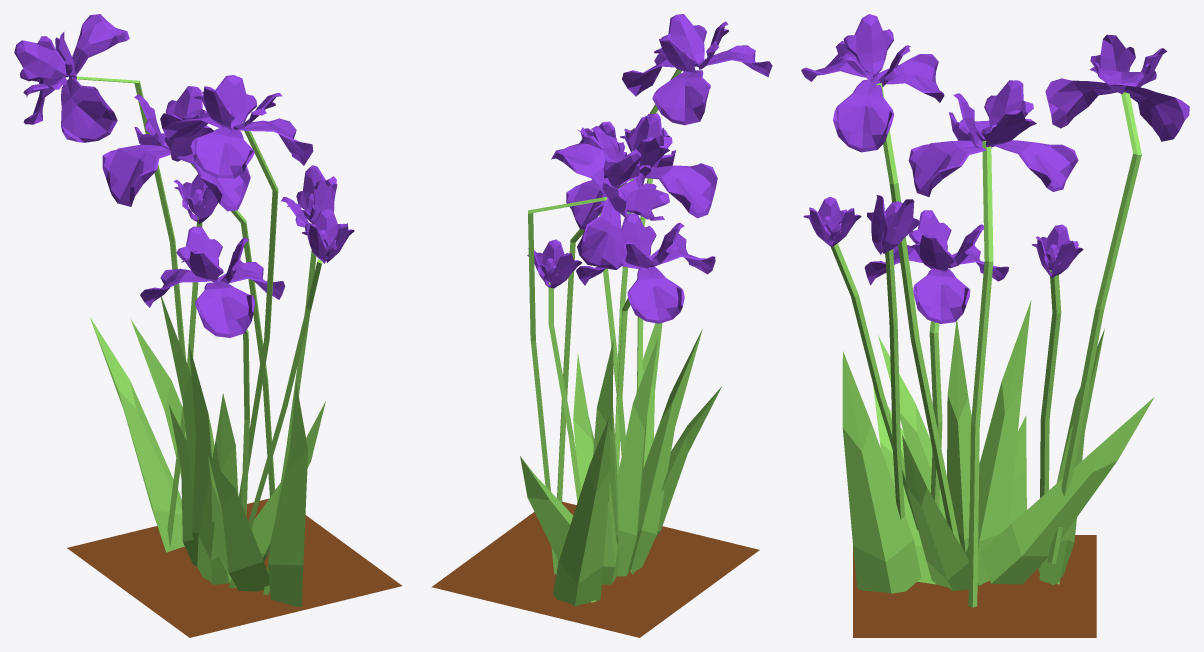
Rendered from iris.fbx.
3 renders of one model, left to right at view 1: azimuth 30°, elevation 25°; view 2: azimuth 150°, elevation 25°; view 3: azimuth 270°, elevation 25°, orthographic. The views are drawn at different scales.
Parts seen in each view (by area): view 1: Plane.123; view 2: Plane.123; view 3: Plane.123.
Boxes of the visible parts, x1,y1,x2,y2 form: Plane.123: (14,14,401,637); Plane.123: (431,14,772,637); Plane.123: (801,14,1189,637).
Size of the model in its own units: 291 by 631 by 398.
